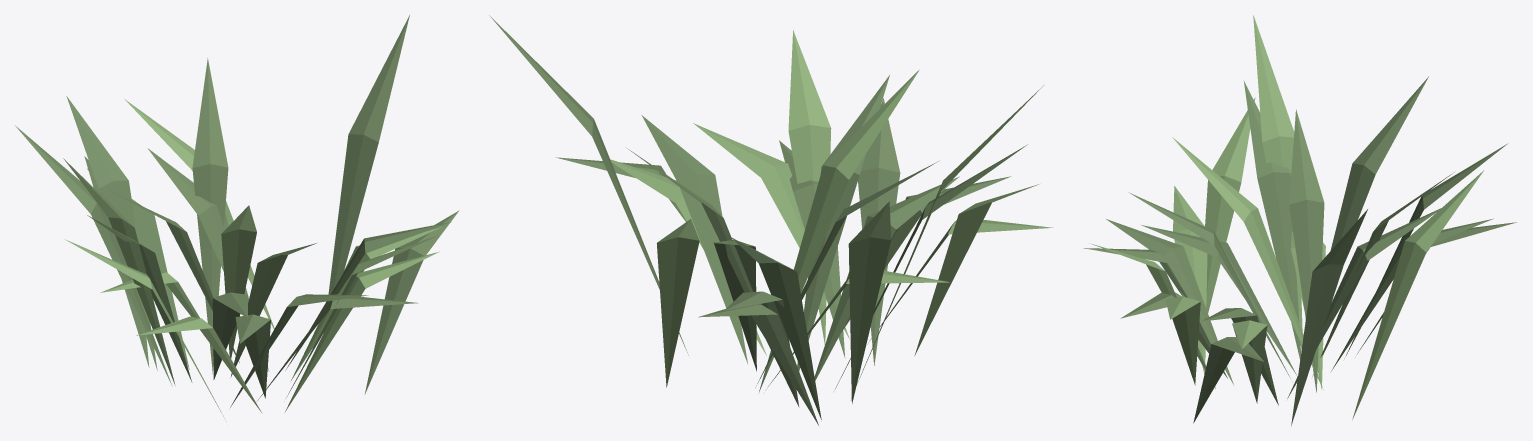
The model's file is grass_fan.glb.
The picture shows the model from 3 angles, left to right: view 1: azimuth 30°, elevation 25°; view 2: azimuth 150°, elevation 25°; view 3: azimuth 270°, elevation 25°; orthographic projection. The views are drawn at different scales.
Parts seen in each view (by area): view 1: grass_fan / mesh; view 2: grass_fan / mesh; view 3: grass_fan / mesh.
Part boxes in pixels (bbox=[...]): grass_fan / mesh: bbox=[15, 15, 459, 421]; grass_fan / mesh: bbox=[489, 15, 1053, 425]; grass_fan / mesh: bbox=[1083, 15, 1516, 426].
Size of the model in its own units: 1.95 by 1.3 by 1.84.
